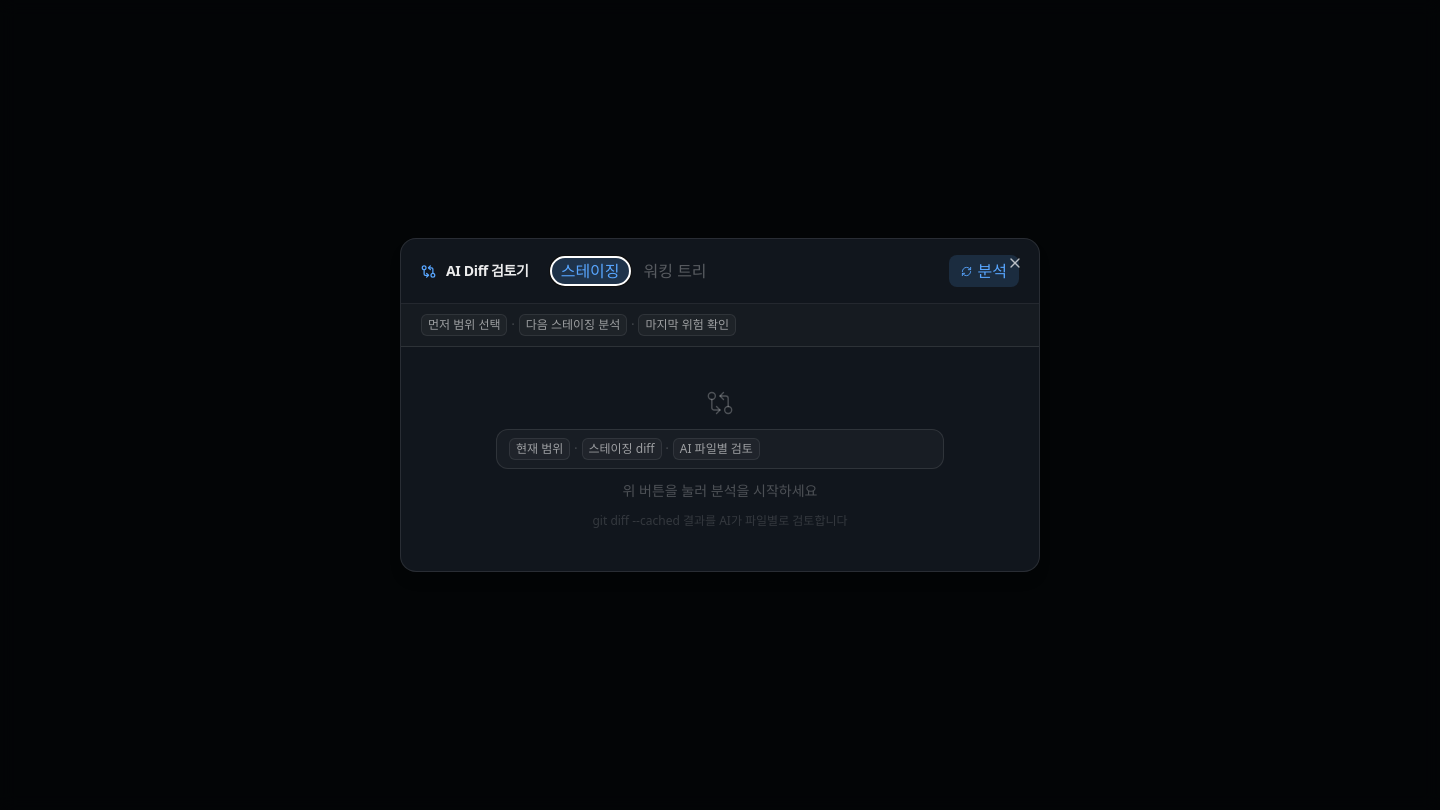
Test: DiffReviewPanel › 분석 결과가 있으면 위험 확인 흐름 안내를 보여준다
This screenshot has width=1440, height=810.
Click the button "분석": (984, 271) [948,255,1019,287]
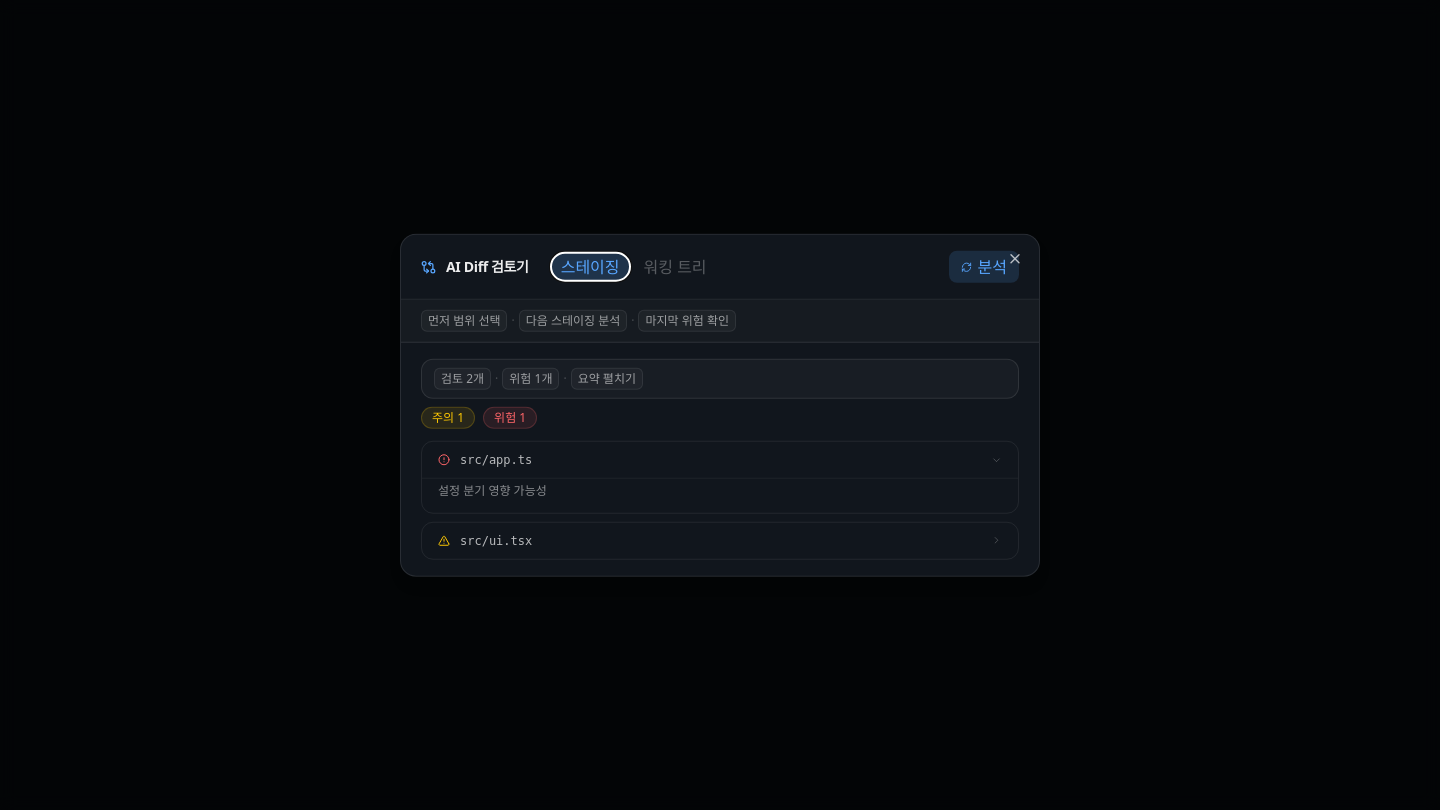
Expected: the text "검토 2개" is shown, [441,371,484,387]
Expected: the text "위험 1개" is shown, [509,371,552,387]
Expected: the text "요약 펼치기" is shown, [578,371,636,387]
